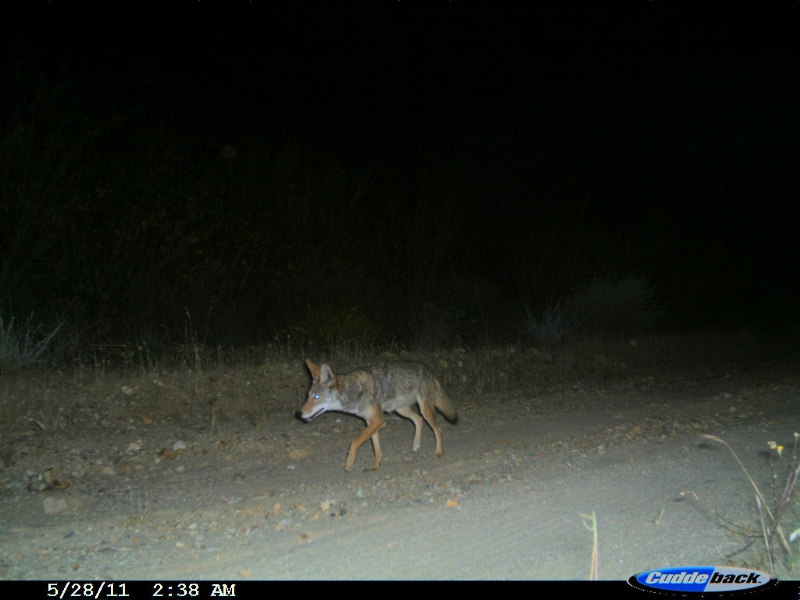coyote: (296, 355, 462, 474)
